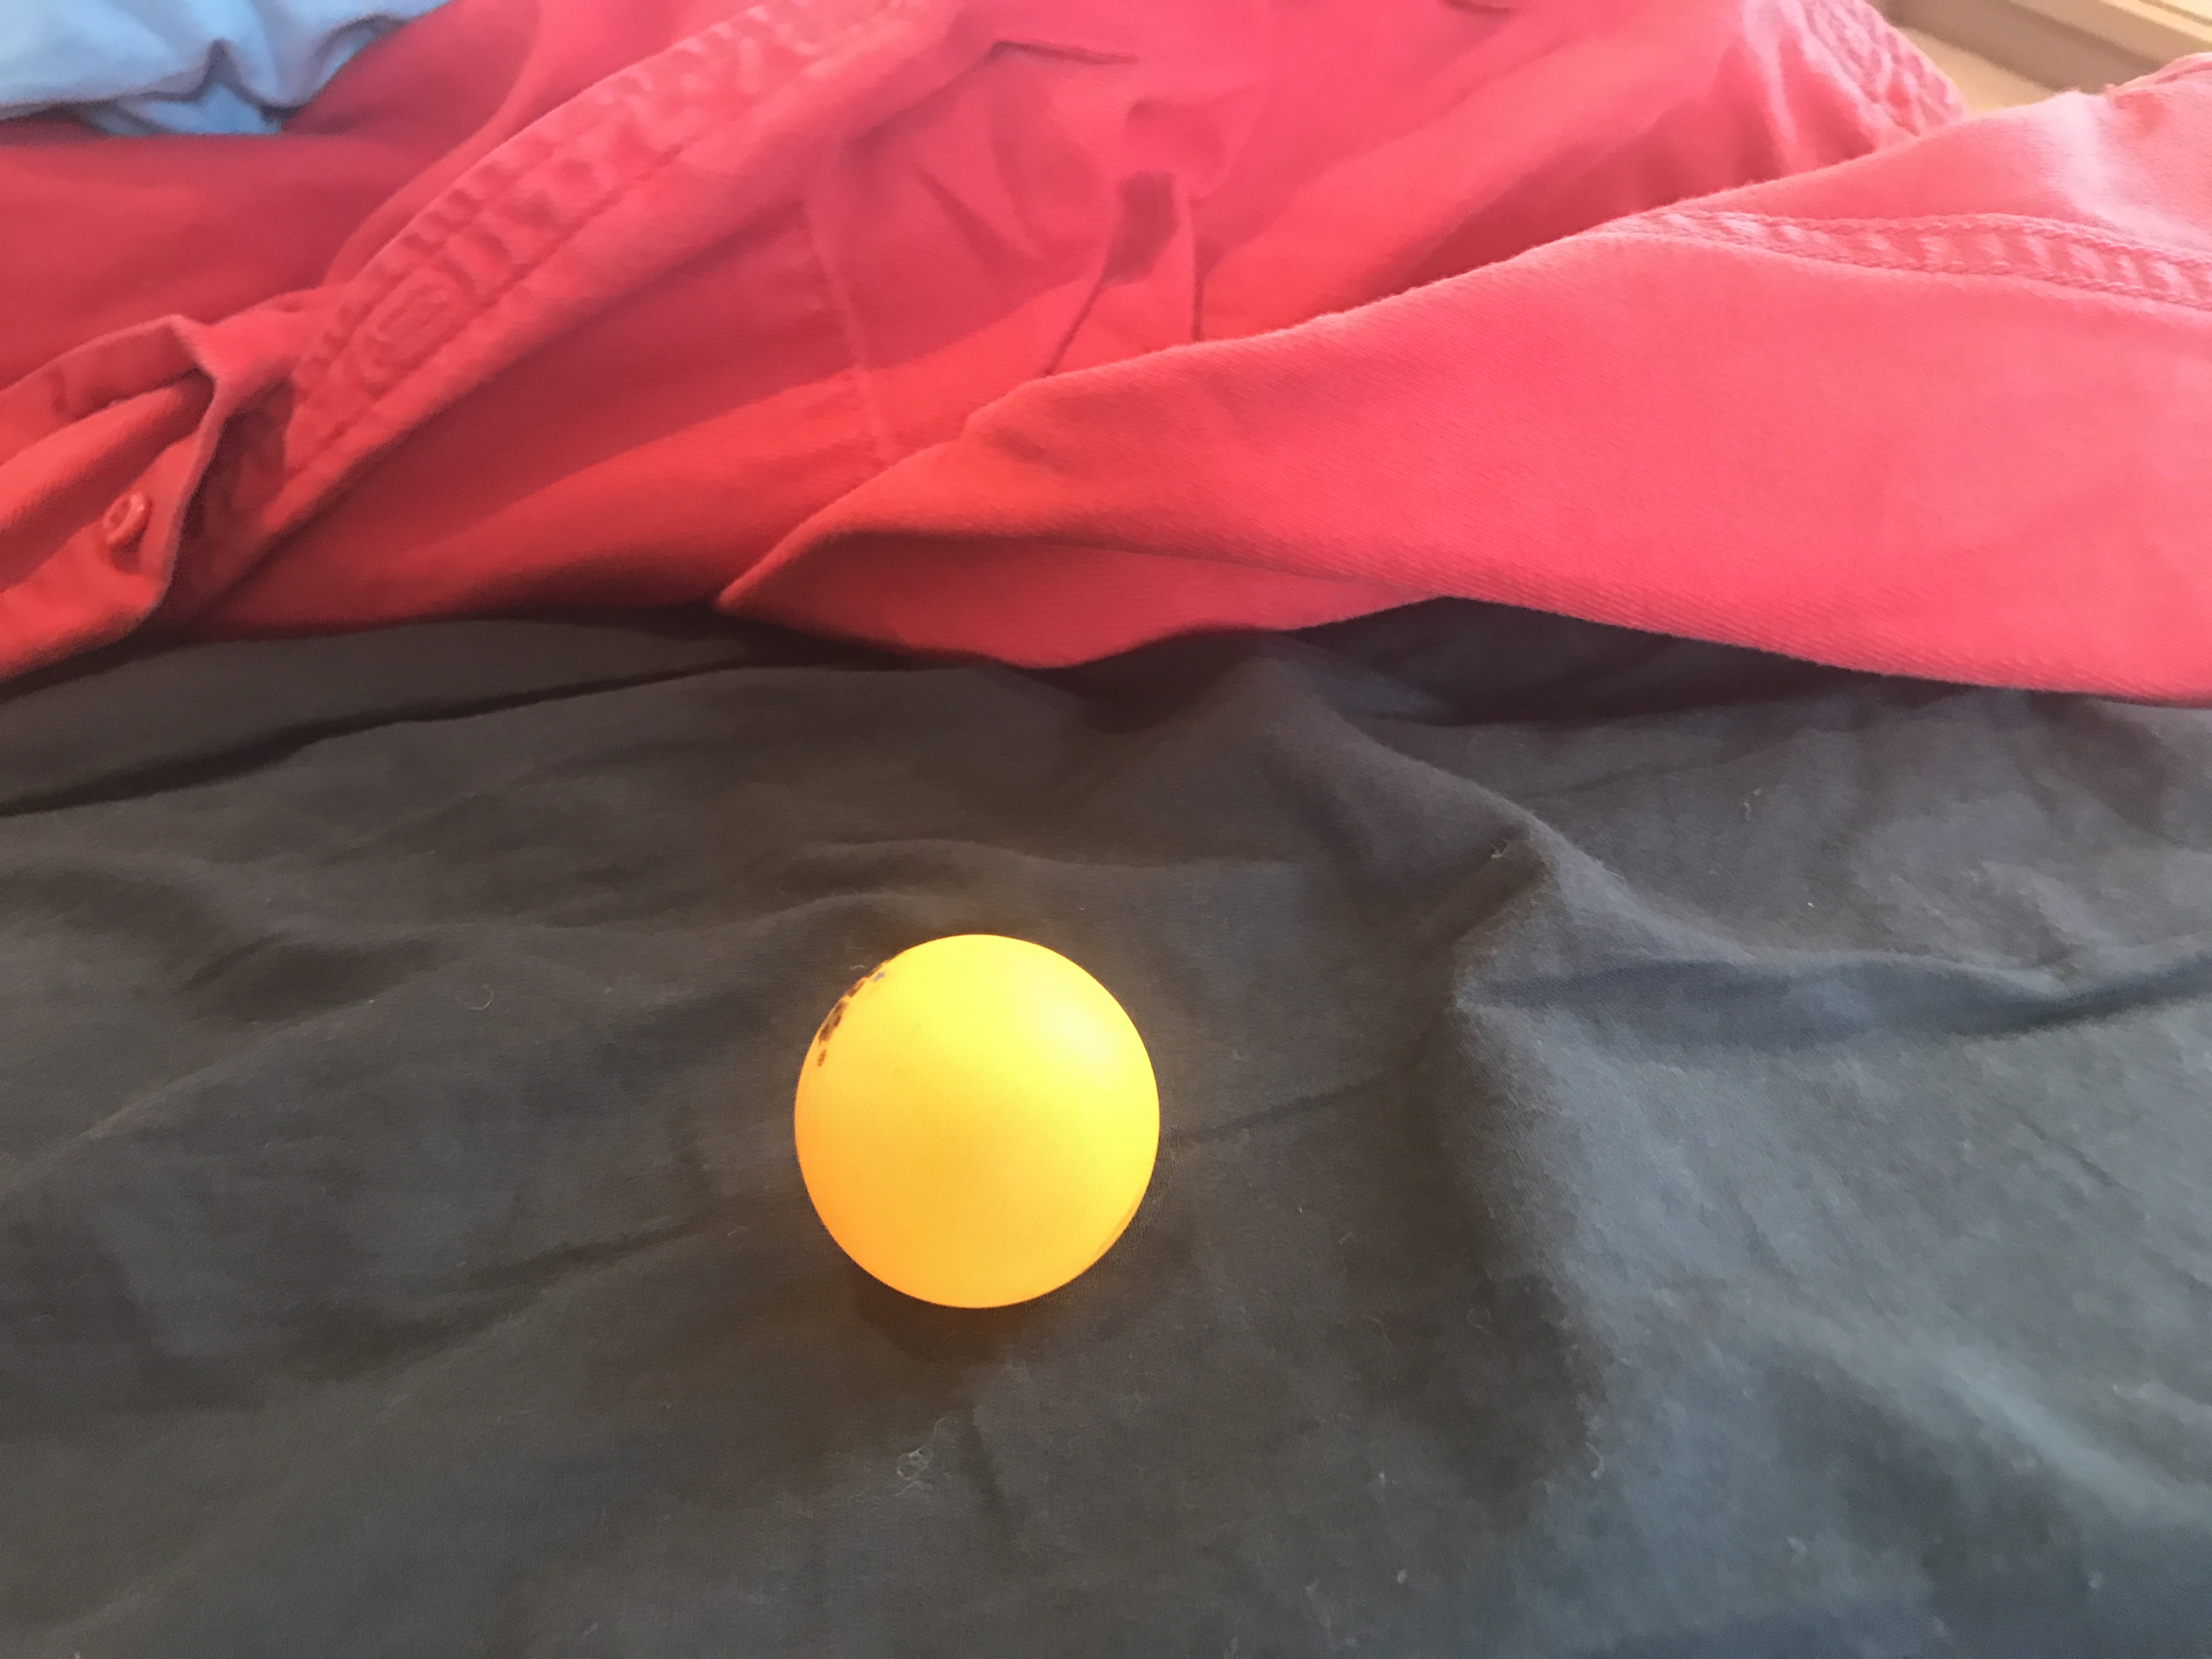pp: (784, 931, 1160, 1317)
